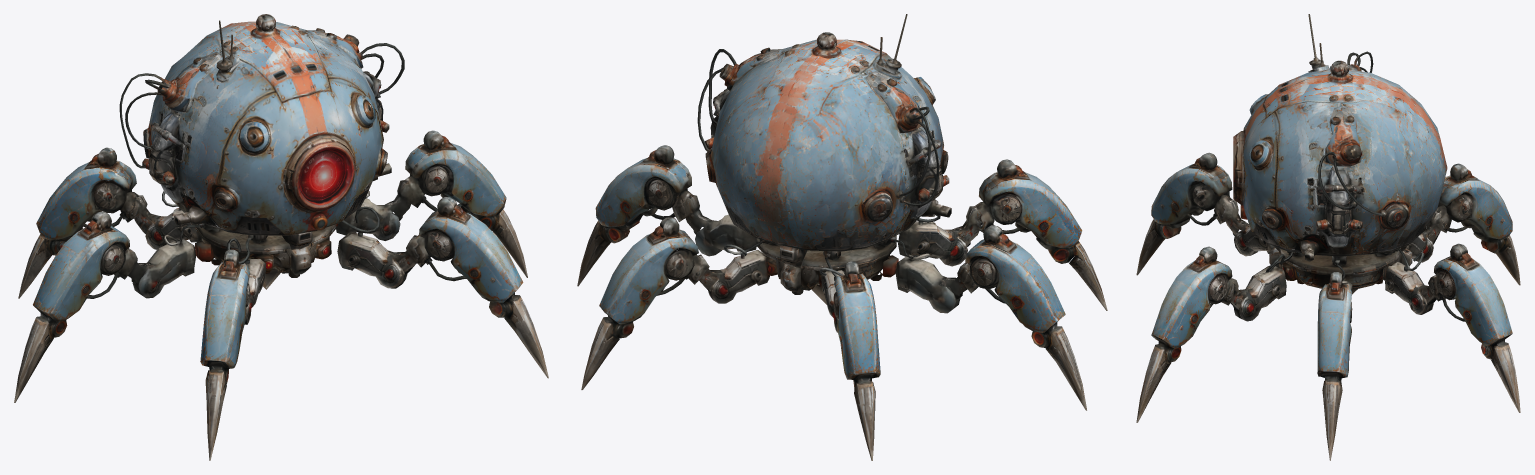
The model's file is spider.glb.
The picture shows the model from 3 angles, left to right: view 1: azimuth 30°, elevation 25°; view 2: azimuth 150°, elevation 25°; view 3: azimuth 270°, elevation 25°; orthographic projection. The views are drawn at different scales.
Parts seen in each view (by area): view 1: tripo_4e7e7332_2d6d_4cea_8b42_ac14955163b1; view 2: tripo_4e7e7332_2d6d_4cea_8b42_ac14955163b1; view 3: tripo_4e7e7332_2d6d_4cea_8b42_ac14955163b1.
Boxes of the visible parts, bbox=[...] form: tripo_4e7e7332_2d6d_4cea_8b42_ac14955163b1: bbox=[14, 14, 548, 460]; tripo_4e7e7332_2d6d_4cea_8b42_ac14955163b1: bbox=[577, 14, 1107, 460]; tripo_4e7e7332_2d6d_4cea_8b42_ac14955163b1: bbox=[1136, 14, 1520, 460].
Size of the model in its own units: 0.9995 by 0.6392 by 0.7241.
Materials: 1 (1 with a texture image).
